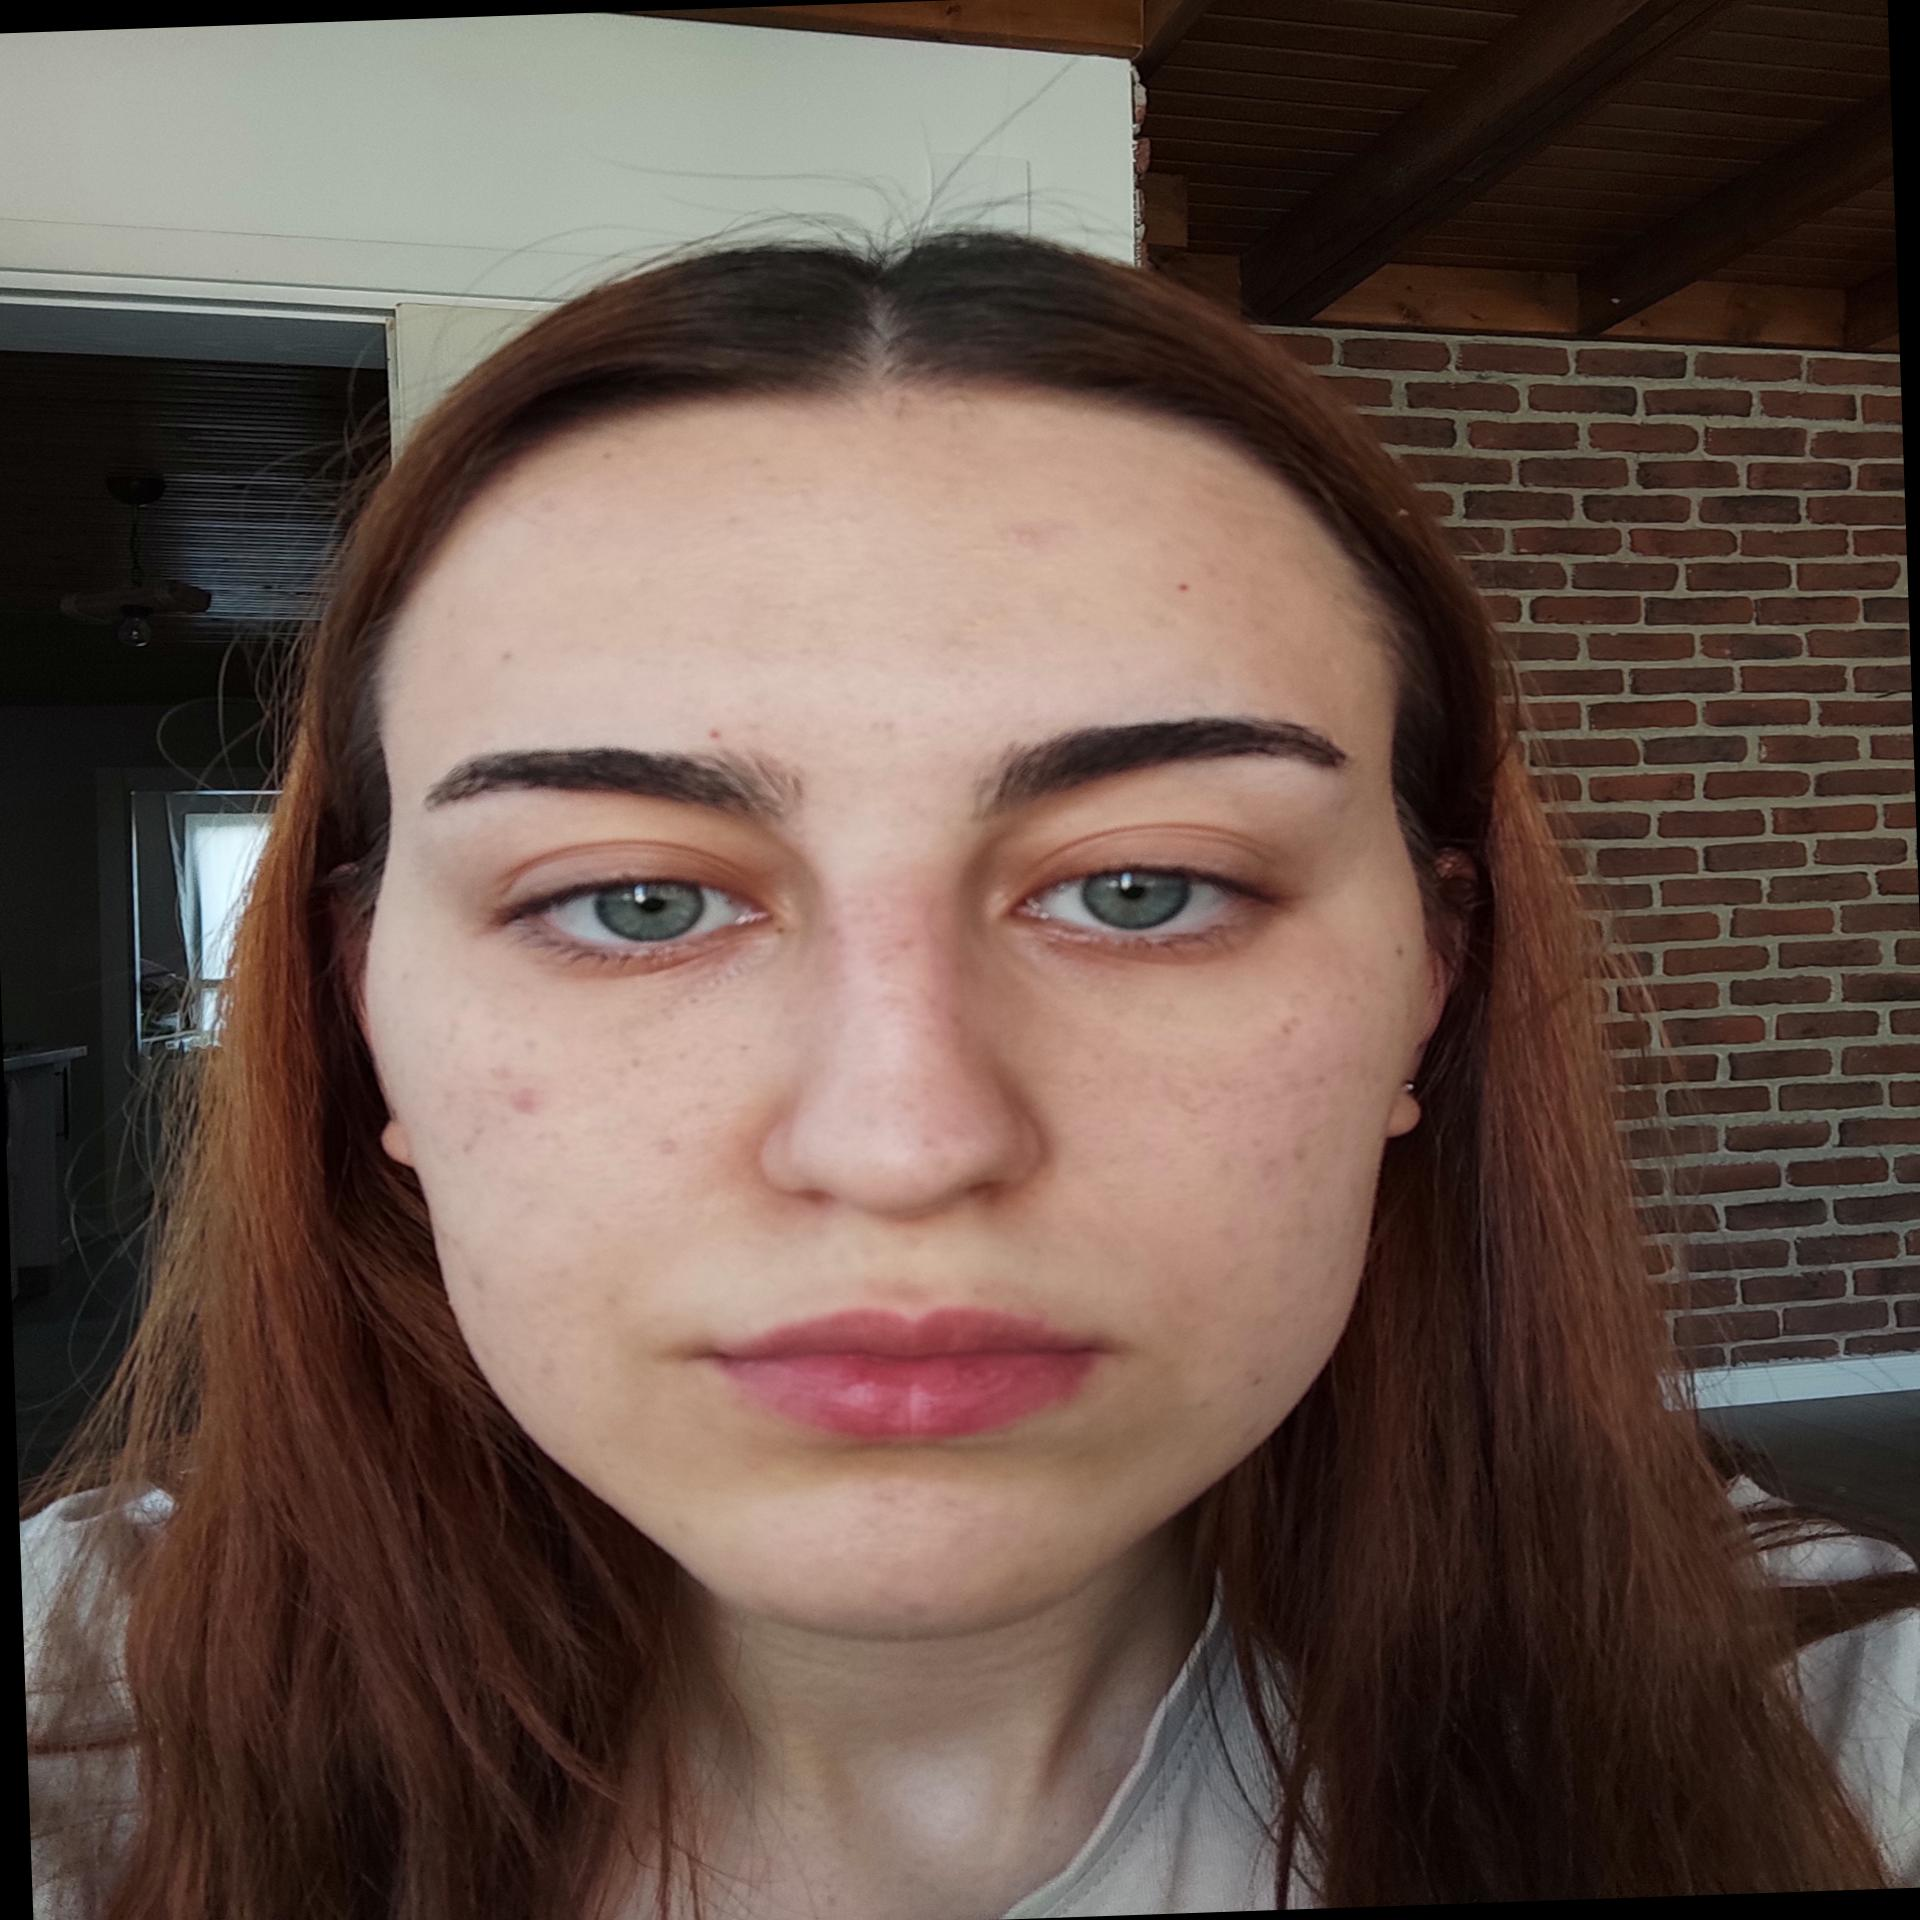Acne: (492, 1058, 554, 1125), (988, 519, 1085, 554), (898, 1595, 958, 1623), (455, 1122, 491, 1159), (462, 1261, 496, 1296), (654, 1132, 686, 1159)
Blackhead: (1087, 1043, 1335, 1155)
